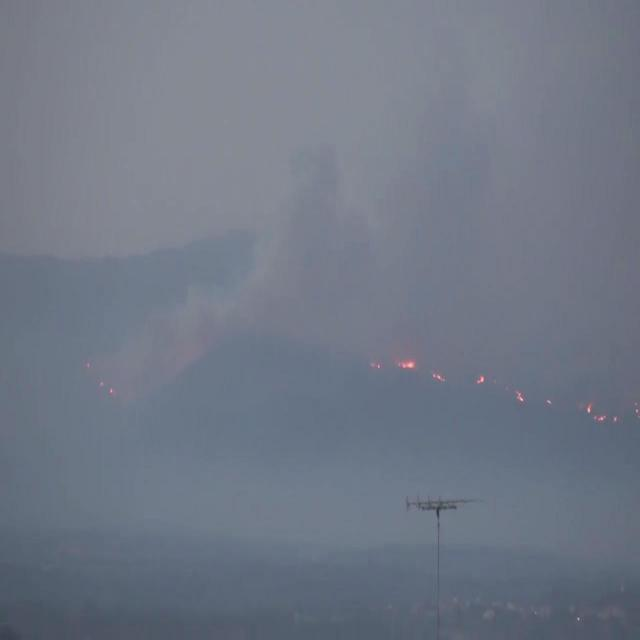Fire: (397, 360, 417, 372), (514, 386, 524, 404), (592, 412, 608, 422), (474, 373, 485, 386), (432, 373, 446, 383), (586, 403, 592, 412)
